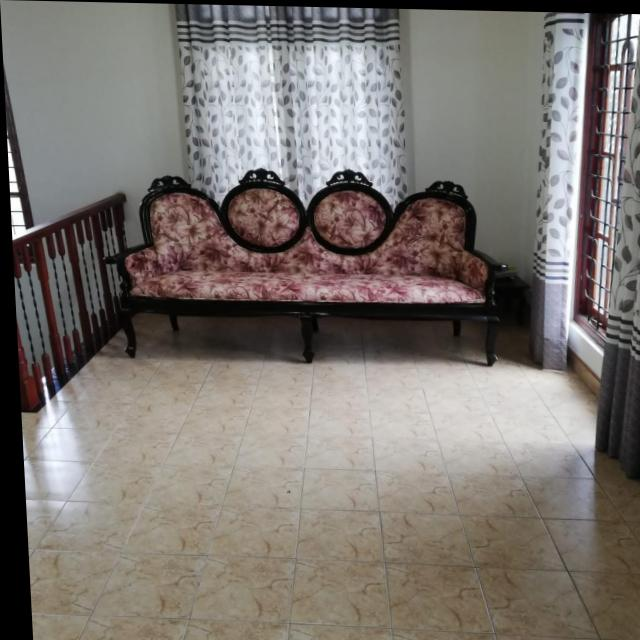Sofa: (99, 164, 509, 367)
